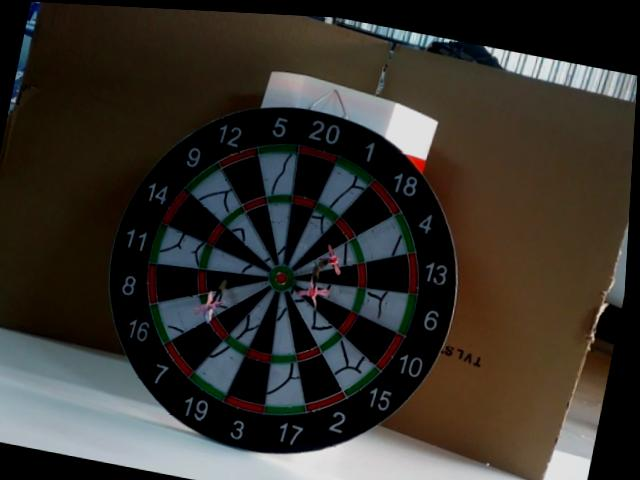single_4: (295, 244, 357, 281)
single_8: (207, 271, 268, 294)
